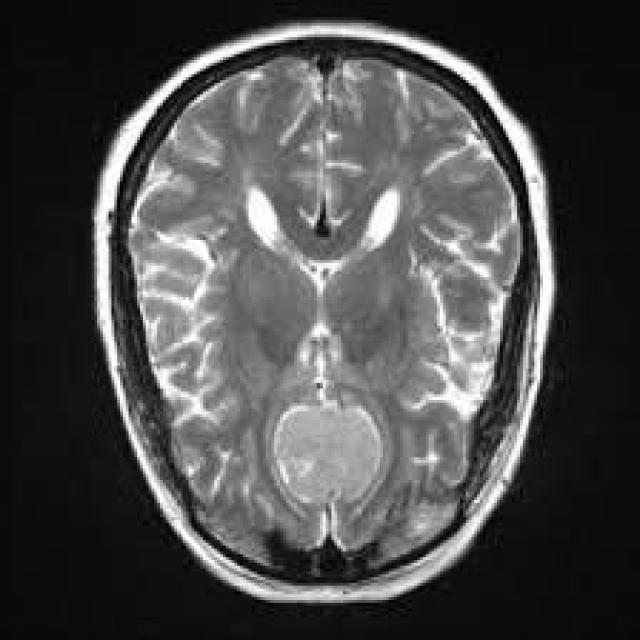meningioma_tumor: (258, 389, 402, 524)
